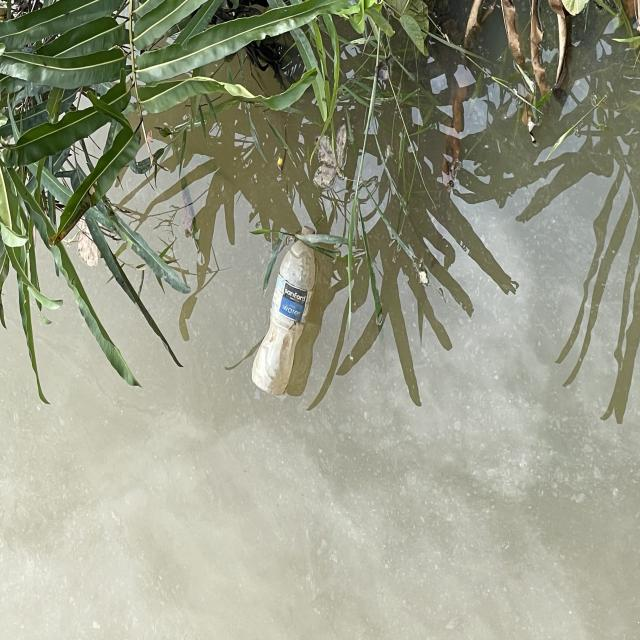Botol Plastik: (248, 223, 330, 400)
